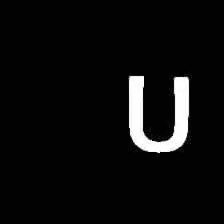LTR_U: (122, 72, 195, 156)
